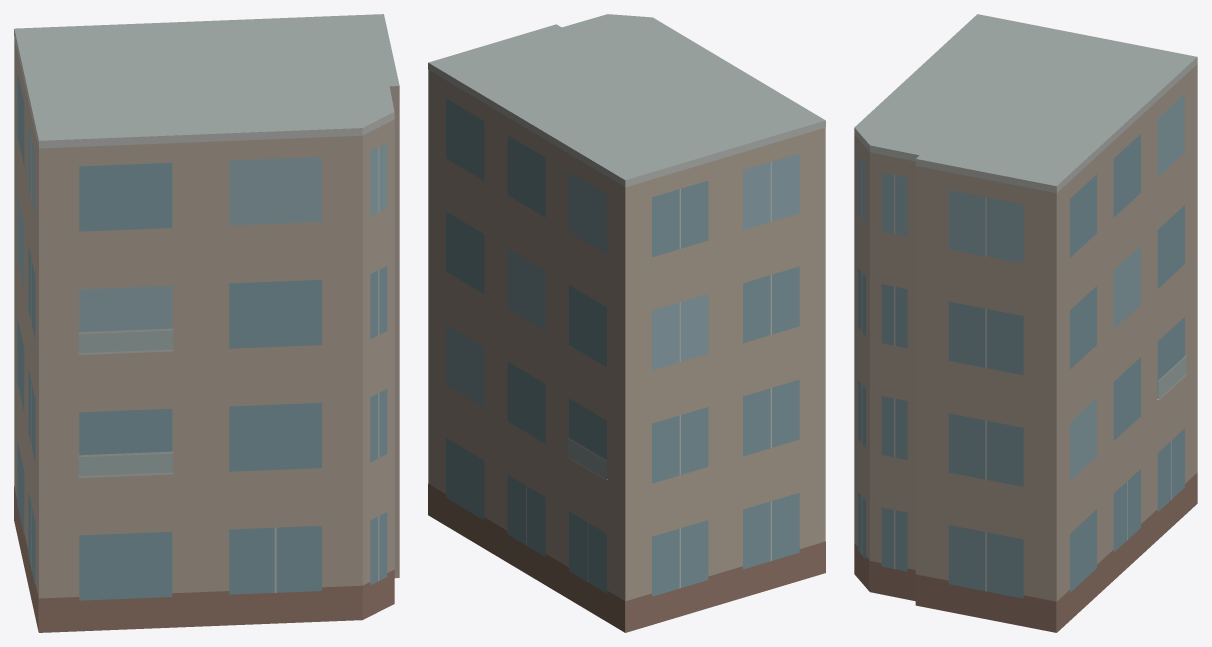
Rendered from survey-upis-32871773.glb.
The picture shows the model from 3 angles, left to right: view 1: azimuth 30°, elevation 25°; view 2: azimuth 150°, elevation 25°; view 3: azimuth 270°, elevation 25°; orthographic projection. The views are drawn at different scales.
Visible parts, largest first — view 1: survey-upis-32871773.tmp; view 2: survey-upis-32871773.tmp; view 3: survey-upis-32871773.tmp.
Boxes of the visible parts, bbox=[...] form: survey-upis-32871773.tmp: bbox=[14, 14, 399, 632]; survey-upis-32871773.tmp: bbox=[428, 14, 825, 632]; survey-upis-32871773.tmp: bbox=[854, 14, 1197, 632].
Bounding box in the file's own units: 12.95 × 15.65 × 10.91.
